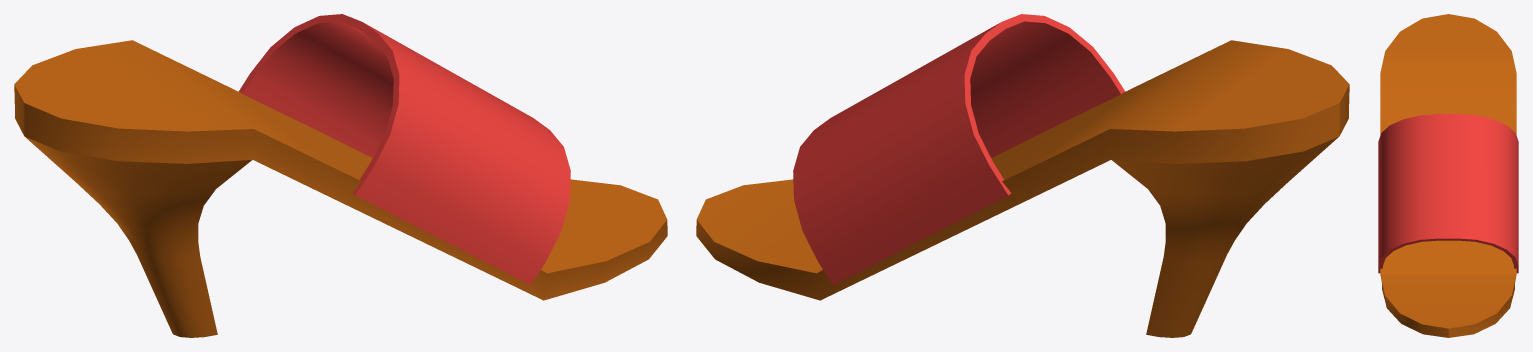
The model's file is womans_sandal.fbx.
3 renders of one model, left to right at view 1: azimuth 30°, elevation 25°; view 2: azimuth 150°, elevation 25°; view 3: azimuth 270°, elevation 25°, orthographic. The views are drawn at different scales.
Parts seen in each view (by area): view 1: Circle.1808; view 2: Circle.1808; view 3: Circle.1808.
Part boxes in pixels (bbox=[...]): Circle.1808: bbox=[14, 14, 667, 337]; Circle.1808: bbox=[696, 14, 1349, 337]; Circle.1808: bbox=[1378, 14, 1518, 337].
Size of the model in its own units: 222 by 89.79 by 75.9.
Materials: 1 (1 with a texture image).
